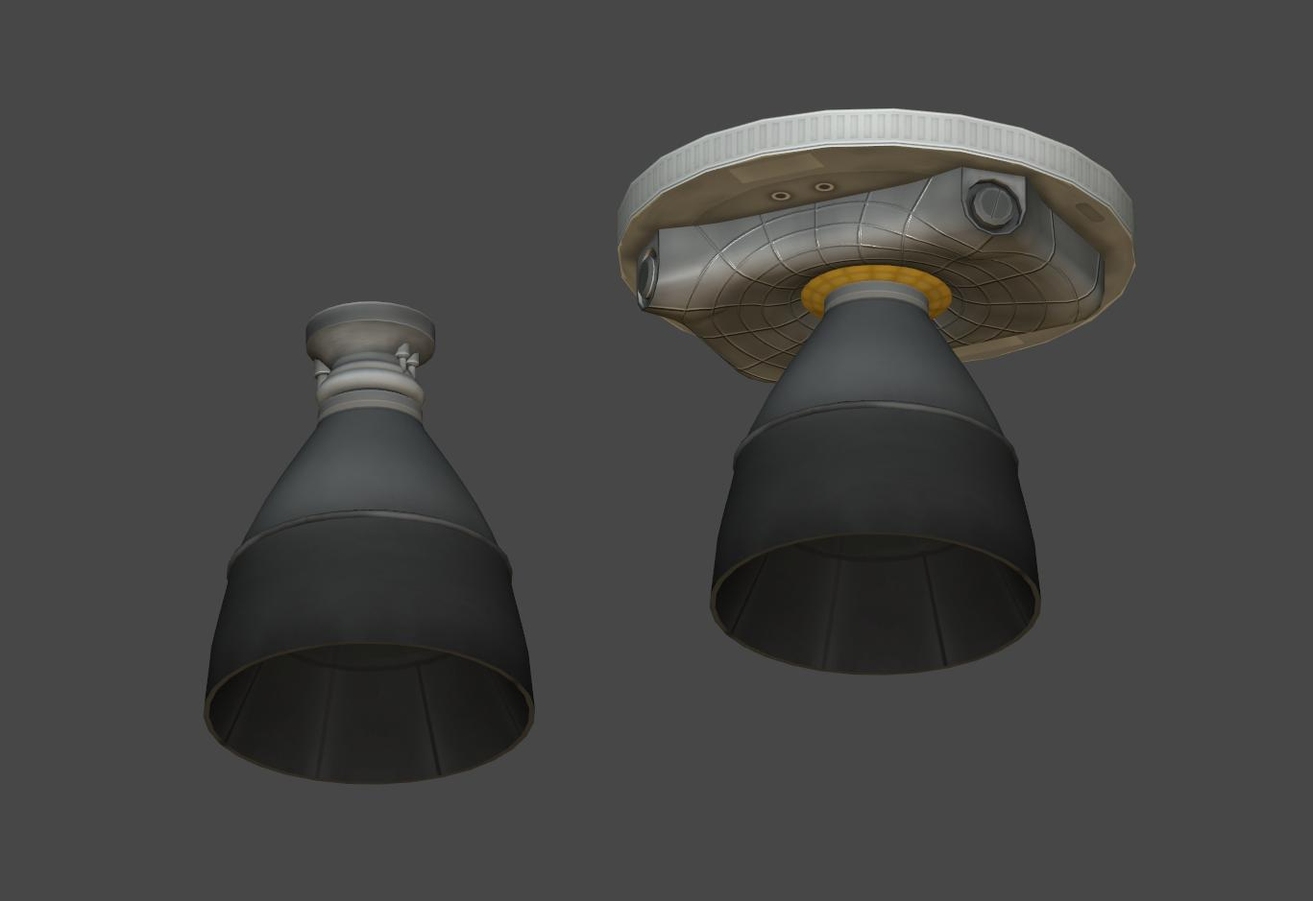thruster: (704, 293, 1044, 679), (195, 416, 544, 789)
